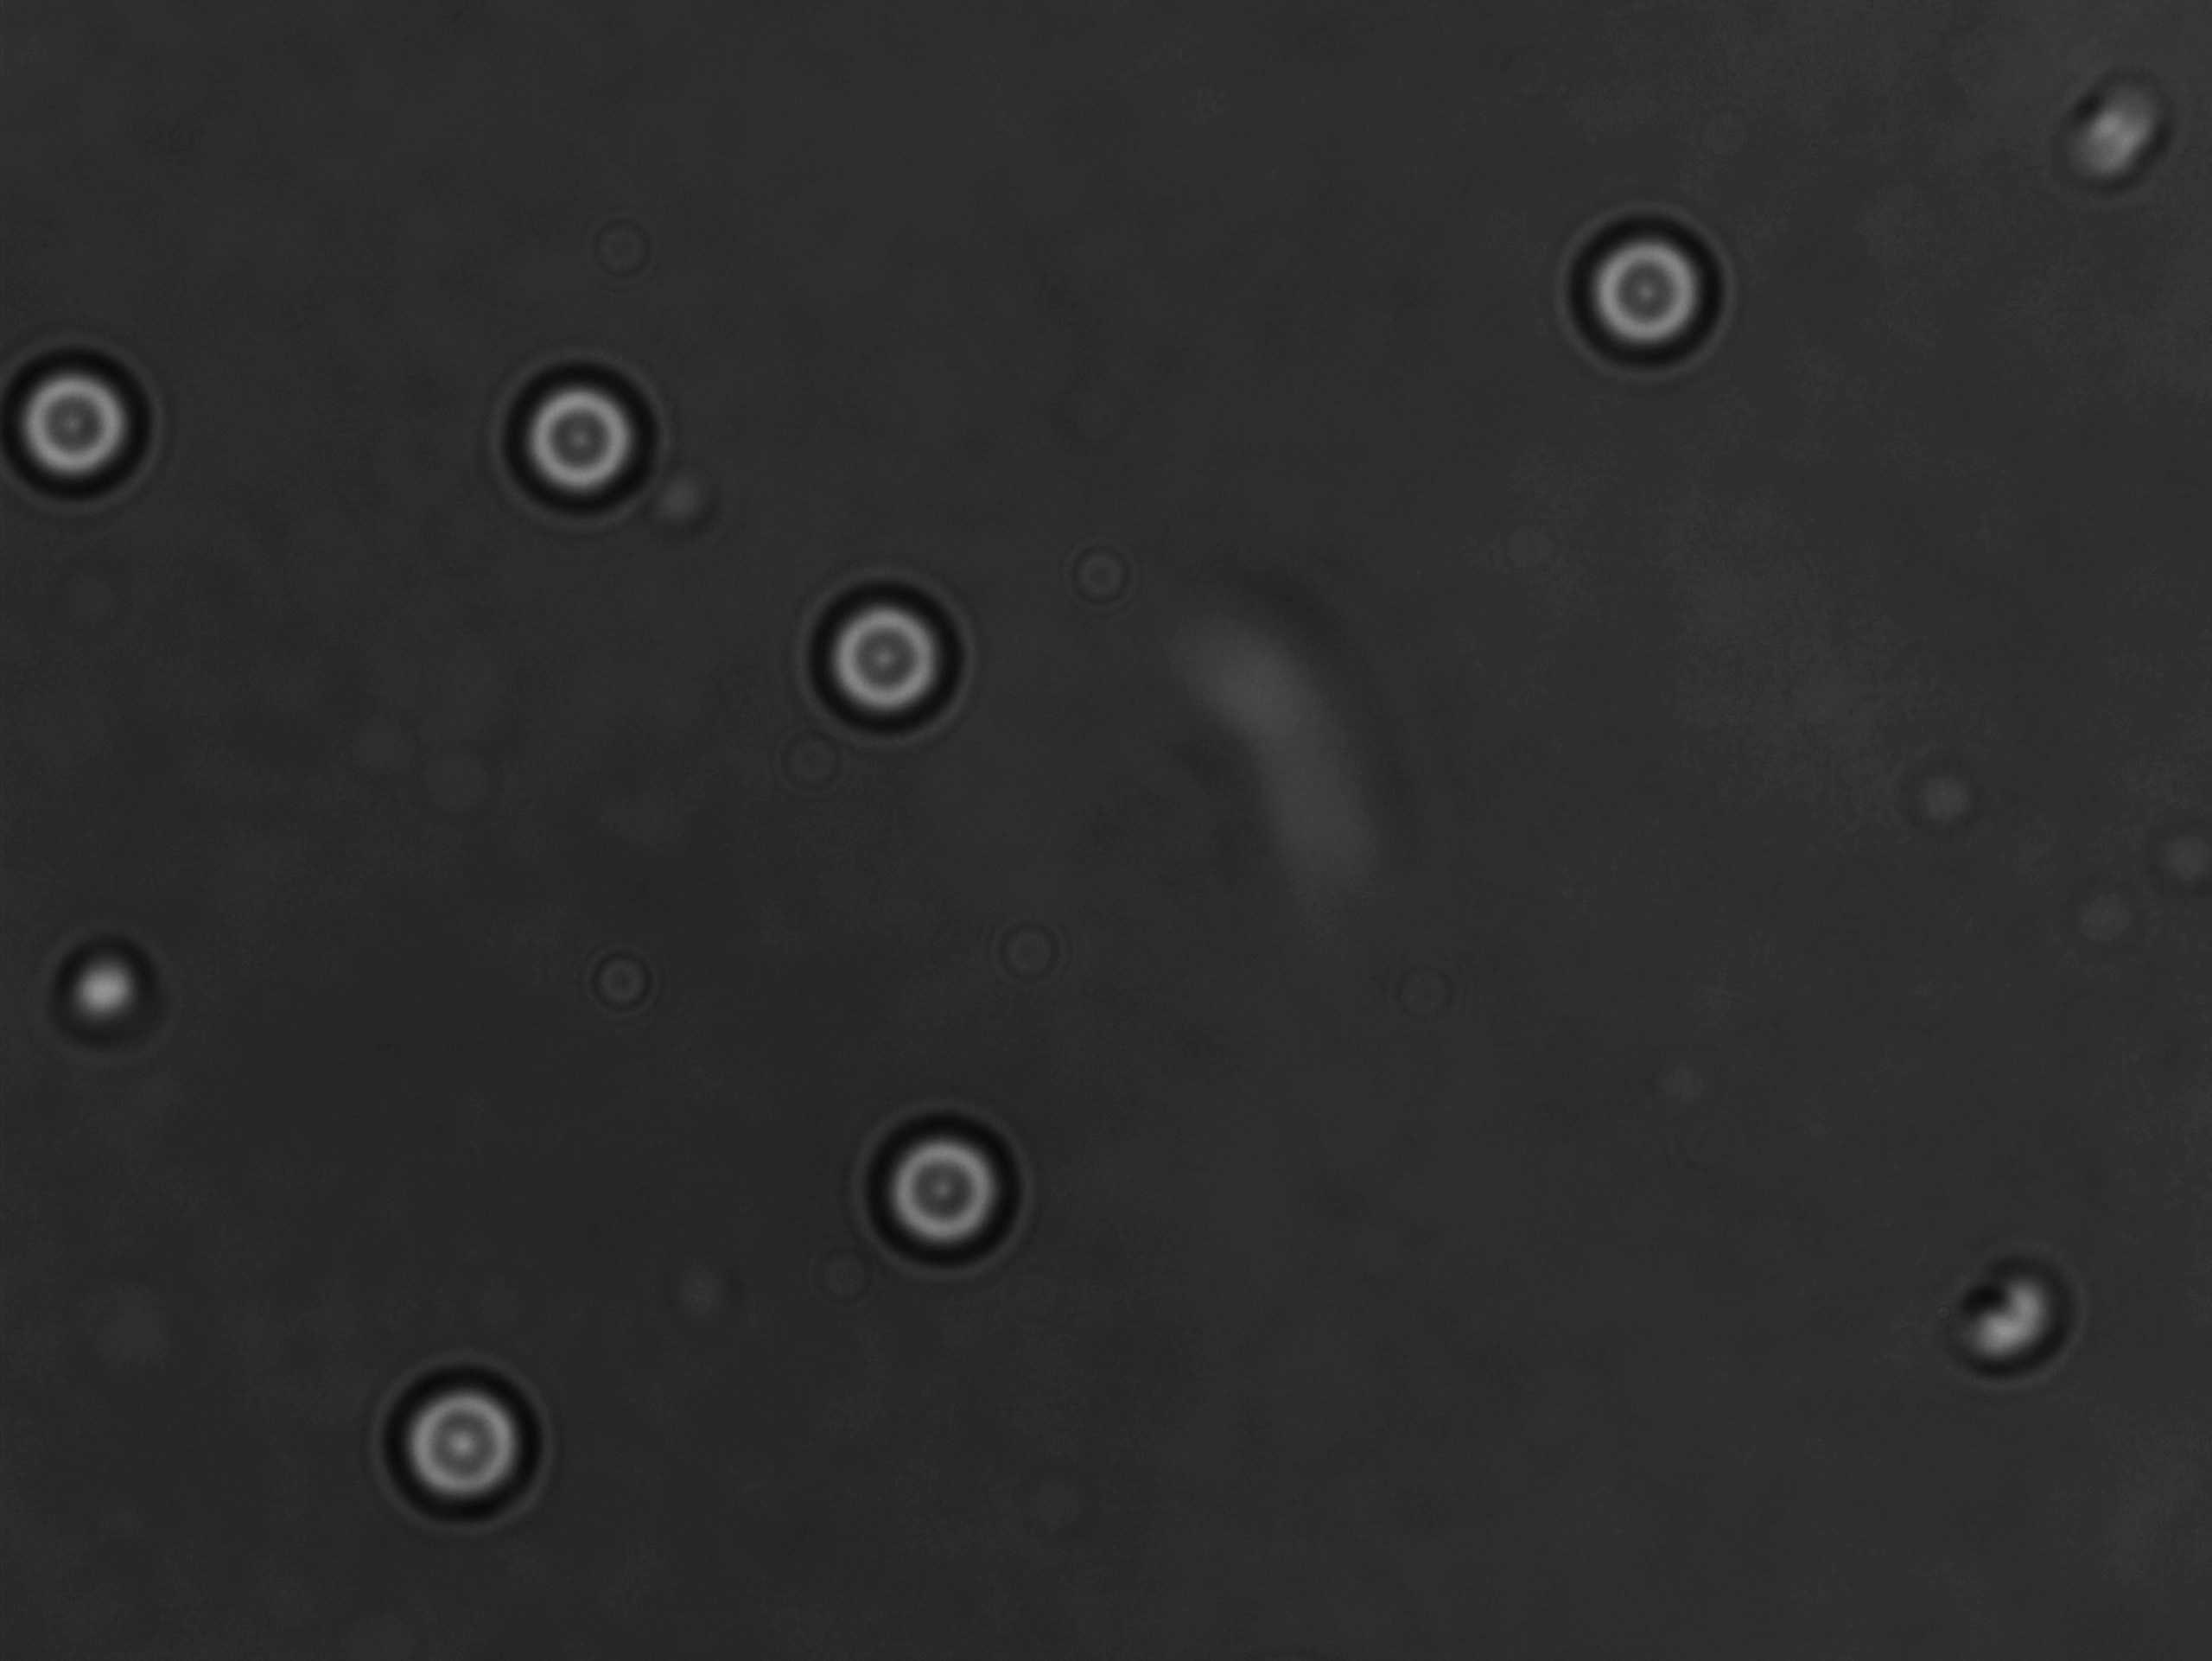depth:40: (857, 1078, 1041, 1288), (1547, 192, 1739, 377), (494, 354, 686, 530), (801, 569, 994, 740), (379, 1356, 558, 1530)
